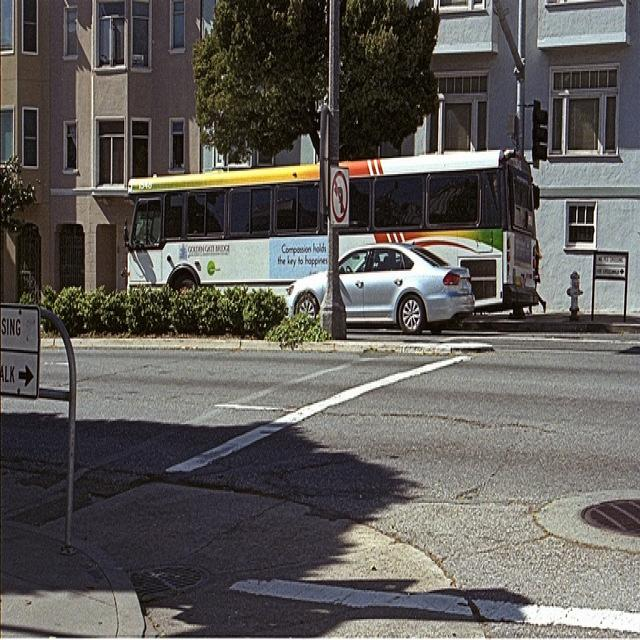bus: (120, 147, 539, 306)
car: (285, 240, 474, 332)
fire_hydrant: (565, 269, 582, 319)
pole: (318, 0, 348, 335)
